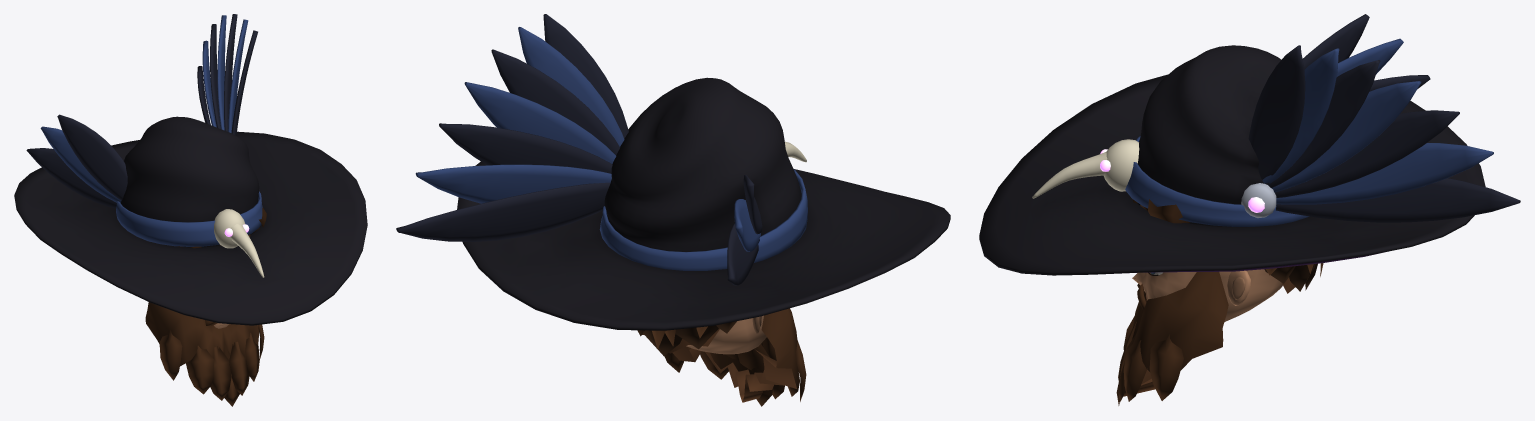
Rendered from h_raven_d.glb.
The picture shows the model from 3 angles, left to right: view 1: azimuth 30°, elevation 25°; view 2: azimuth 150°, elevation 25°; view 3: azimuth 270°, elevation 25°; orthographic projection. The views are drawn at different scales.
Parts seen in each view (by area): view 1: RavenHat, BeardLocks, Beard; view 2: RavenHat, Beard, BeardUnder, BeardLocks, HeadMesh, HairUnder; view 3: RavenHat, Beard, BeardLocks, HeadMesh, HairUnder, HairTop.
Part boxes in pixels (x1=…): RavenHat: x1=14, y1=14, x2=367, y2=325; BeardLocks: x1=159, y1=324, x2=264, y2=406; Beard: x1=145, y1=302, x2=258, y2=366; RavenHat: x1=396, y1=14, x2=950, y2=330; Beard: x1=642, y1=308, x2=798, y2=388; BeardUnder: x1=642, y1=334, x2=796, y2=402; BeardLocks: x1=664, y1=337, x2=806, y2=406; HeadMesh: x1=686, y1=315, x2=766, y2=354; HairUnder: x1=637, y1=321, x2=736, y2=355; RavenHat: x1=979, y1=14, x2=1520, y2=275; Beard: x1=1132, y1=272, x2=1228, y2=371; BeardLocks: x1=1116, y1=316, x2=1183, y2=405; HeadMesh: x1=1132, y1=269, x2=1282, y2=321; HairUnder: x1=1264, y1=263, x2=1317, y2=291; HairTop: x1=1132, y1=199, x2=1323, y2=276.
Size of the model in its own units: 0.62 by 0.6041 by 0.7056.
